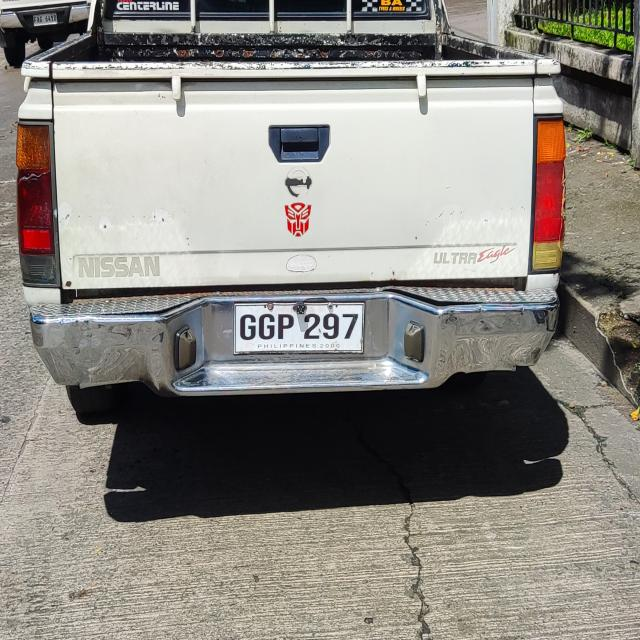plate: (232, 300, 367, 356)
